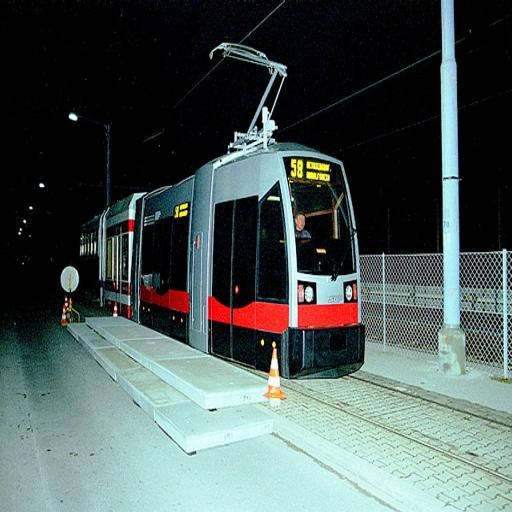ULF: (81, 130, 362, 381)
